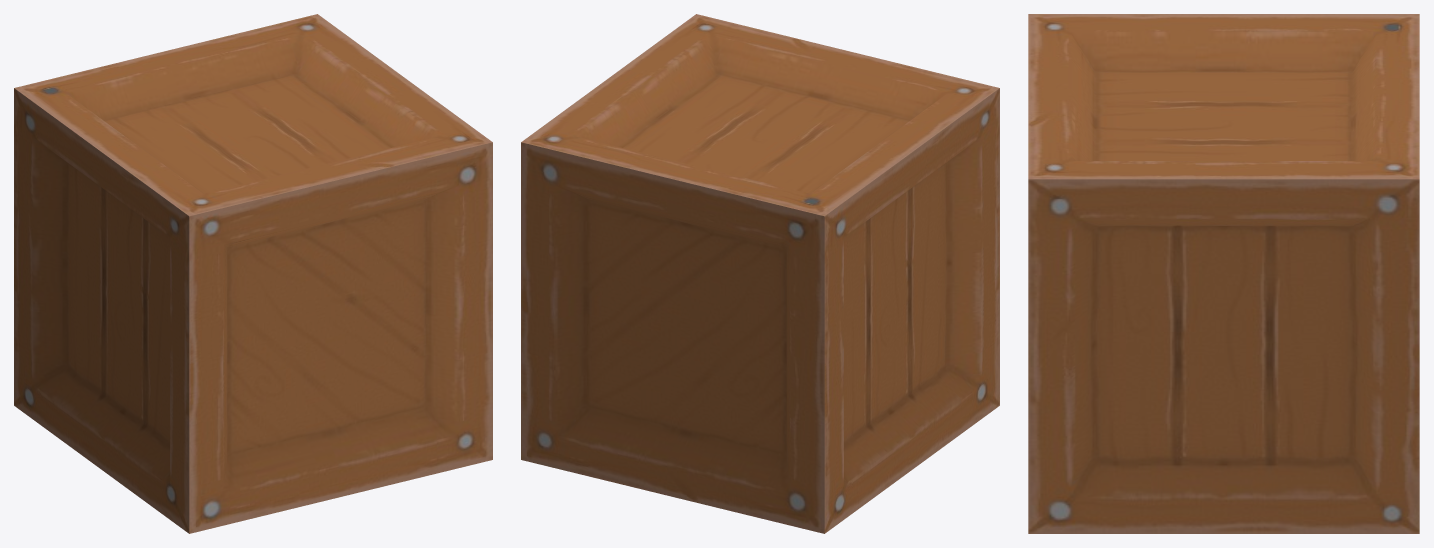
The model's file is stylized_crate.glb.
The picture shows the model from 3 angles, left to right: view 1: azimuth 30°, elevation 25°; view 2: azimuth 150°, elevation 25°; view 3: azimuth 270°, elevation 25°; orthographic projection. The views are drawn at different scales.
Parts seen in each view (by area): view 1: Crate; view 2: Crate; view 3: Crate.
Boxes of the visible parts, left/top/right/bottom form: Crate: left=14, top=14, right=492, bottom=533; Crate: left=521, top=14, right=999, bottom=533; Crate: left=1028, top=14, right=1419, bottom=533.
Bounding box in the file's own units: 2 × 2 × 2.
1 material, 1 textured.
